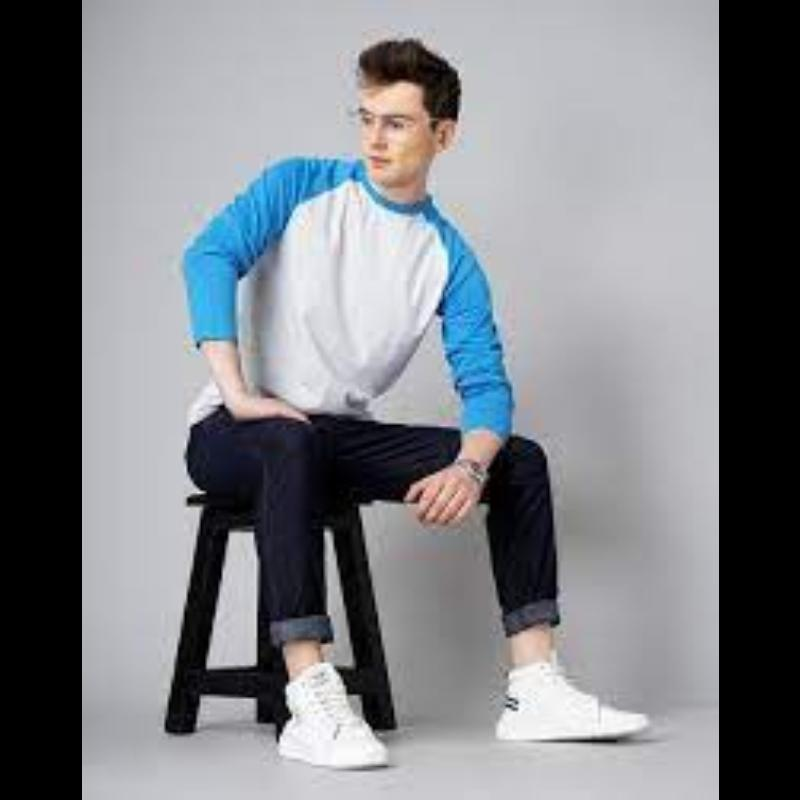Jeans: (174, 394, 575, 649)
Tshirt: (179, 143, 511, 439)
